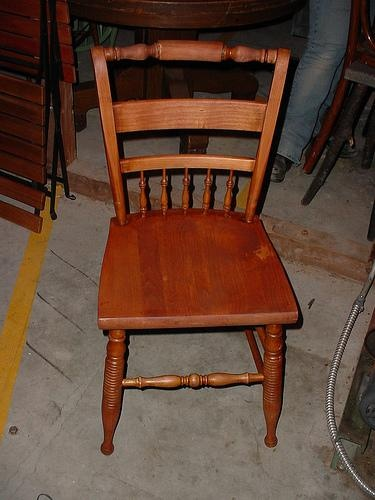obstacle: (91, 41, 298, 453)
